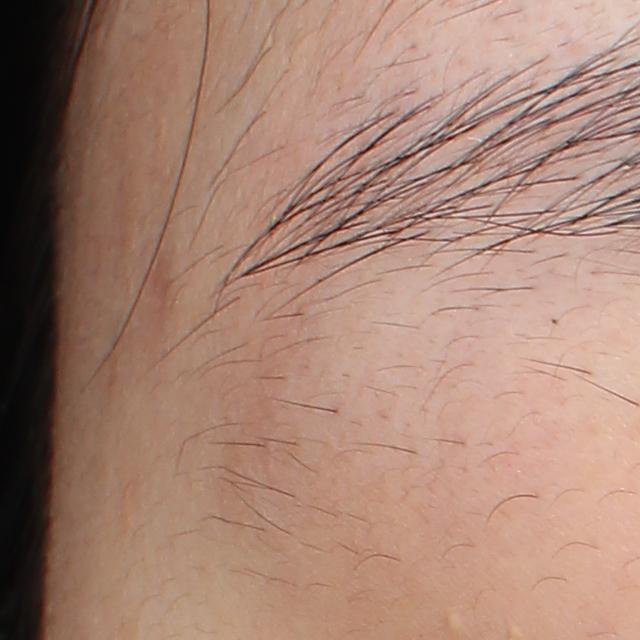other: (444, 613, 464, 633)
